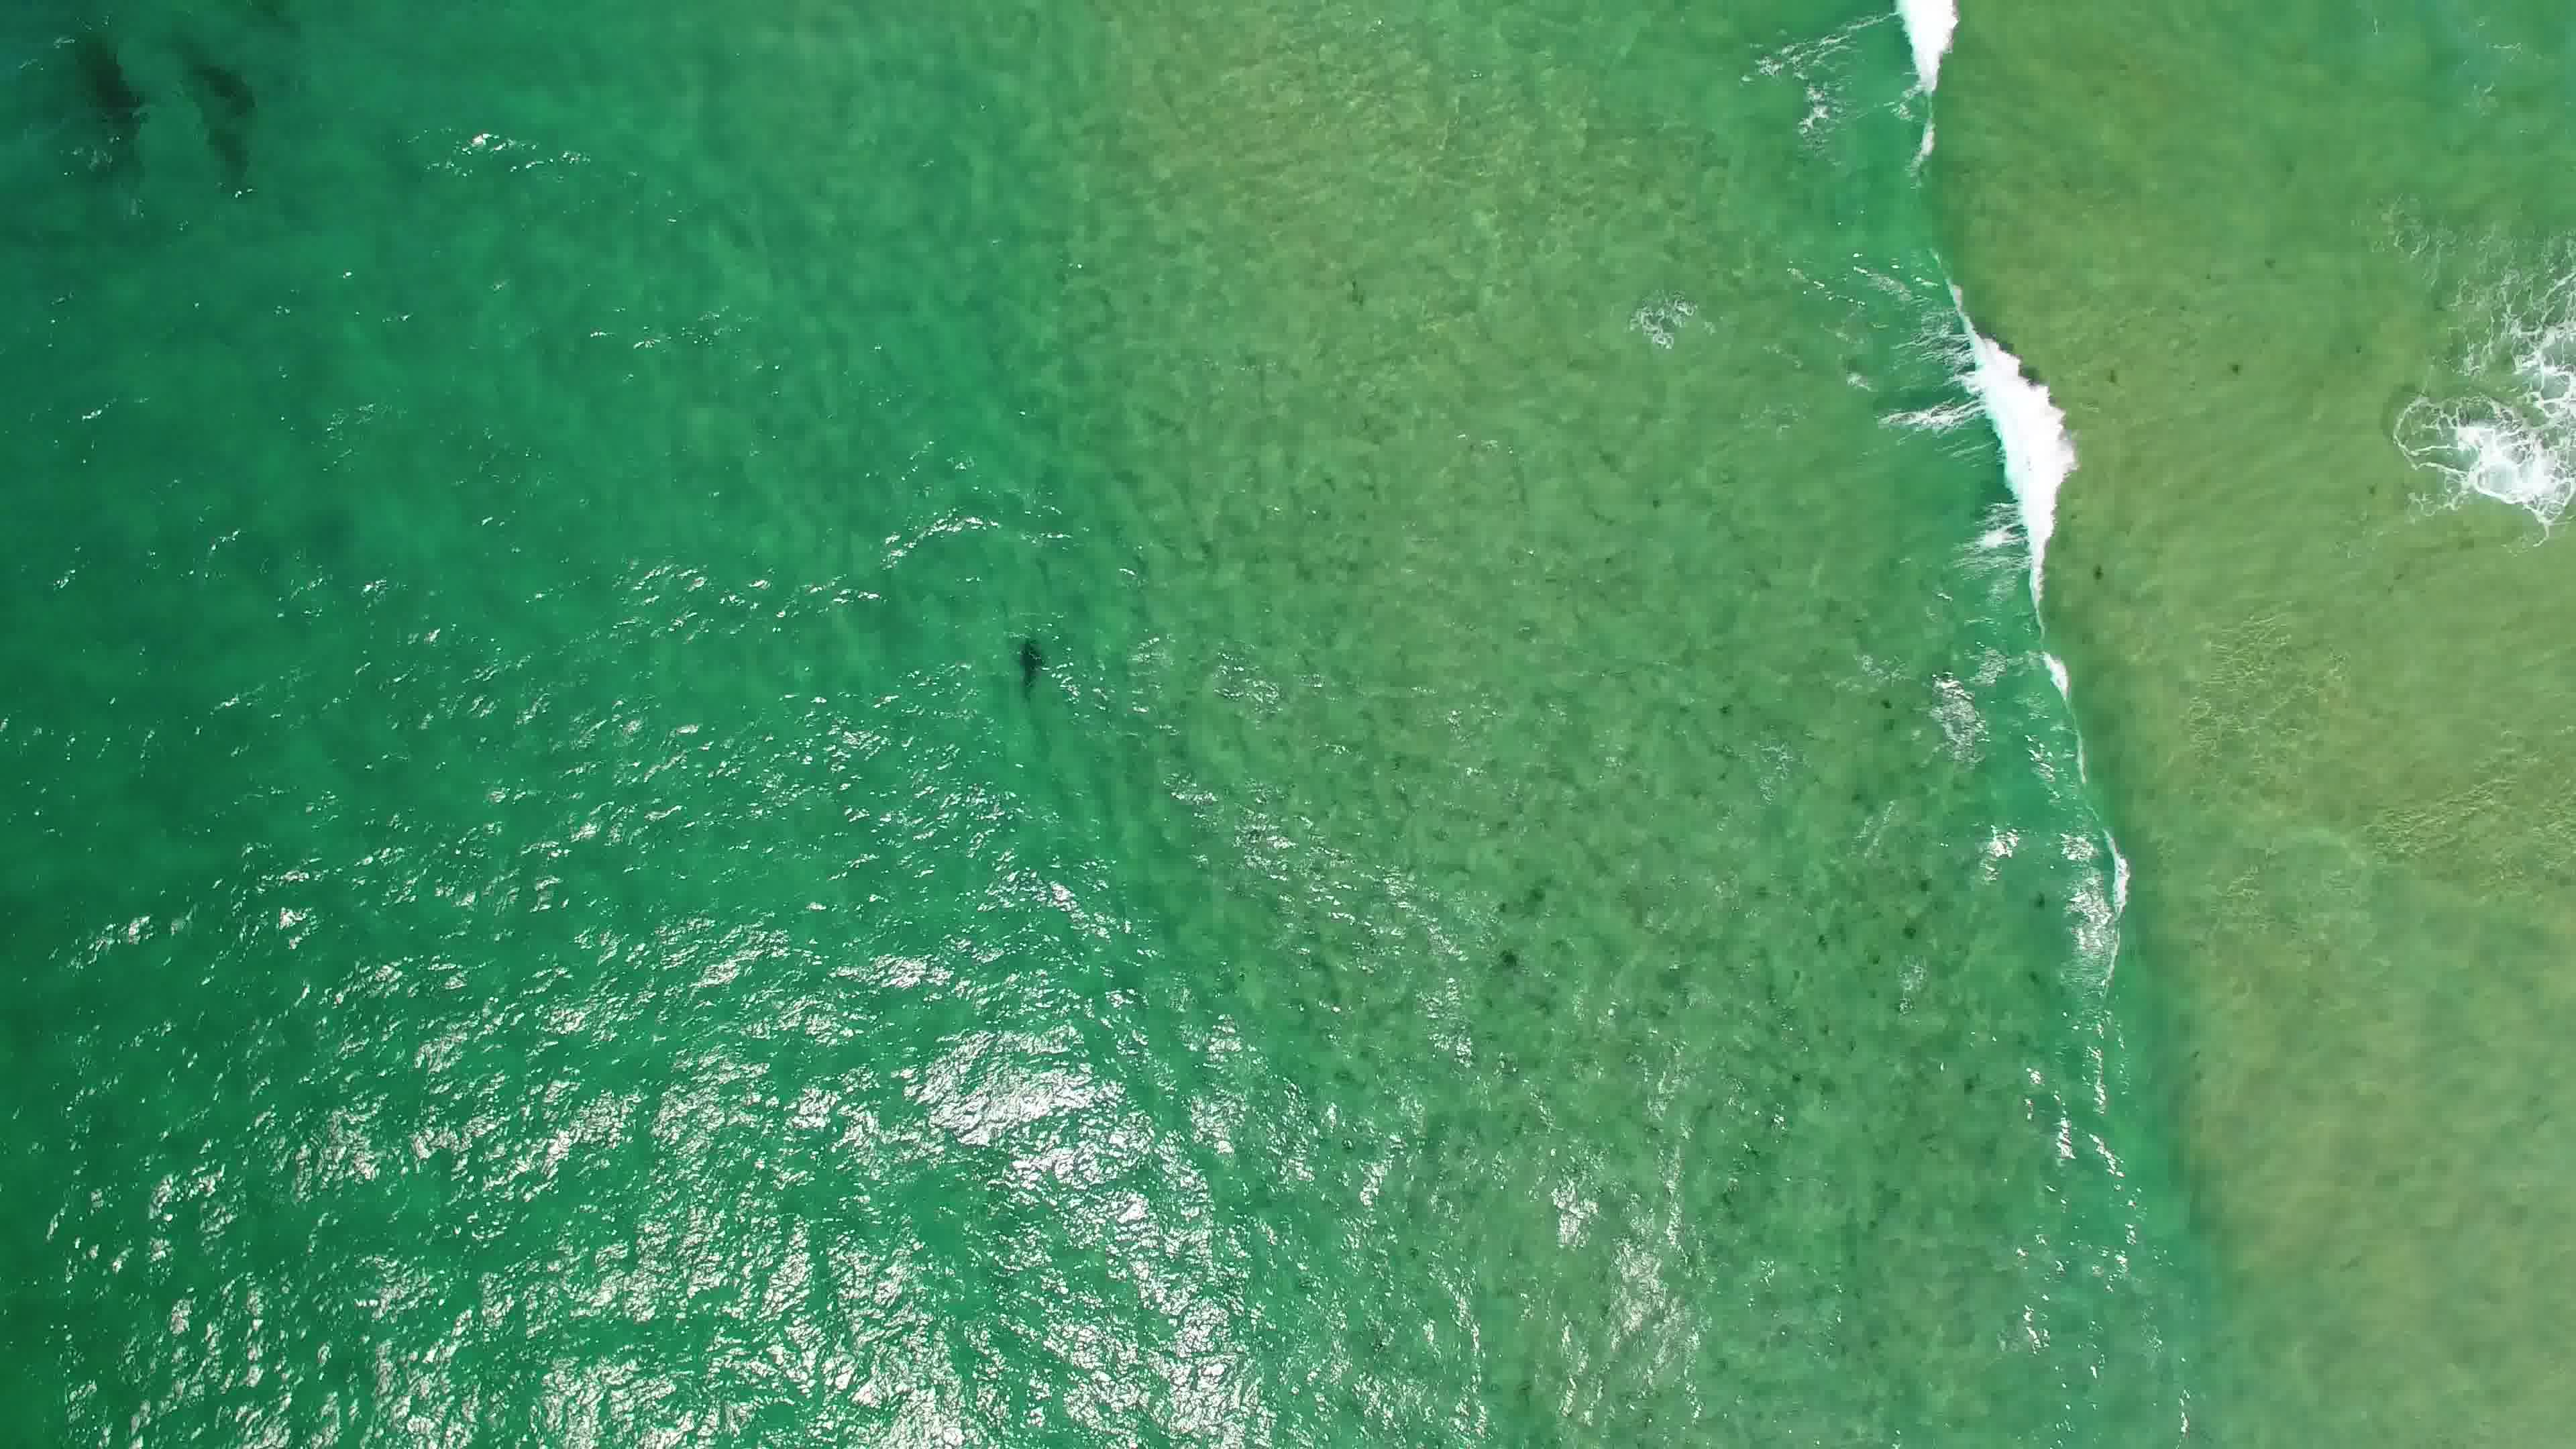shark: (1005, 632, 1056, 706)
